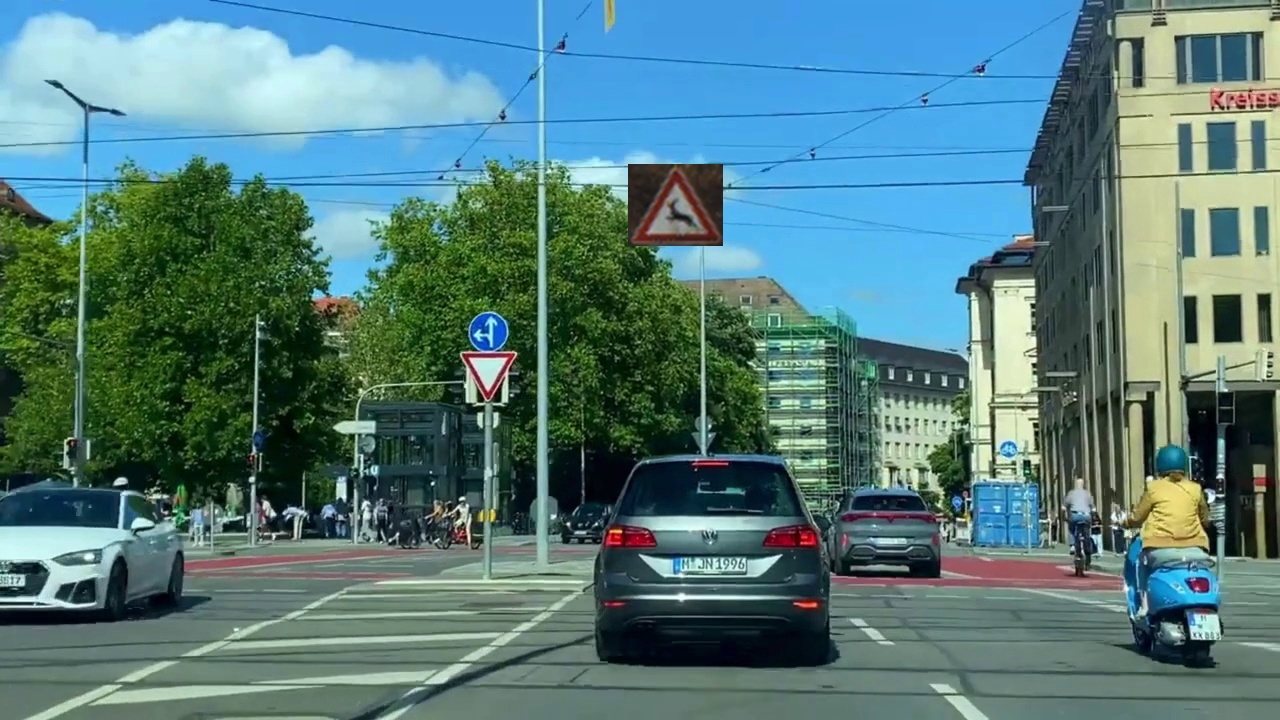Wild animals: (628, 164, 723, 246)
